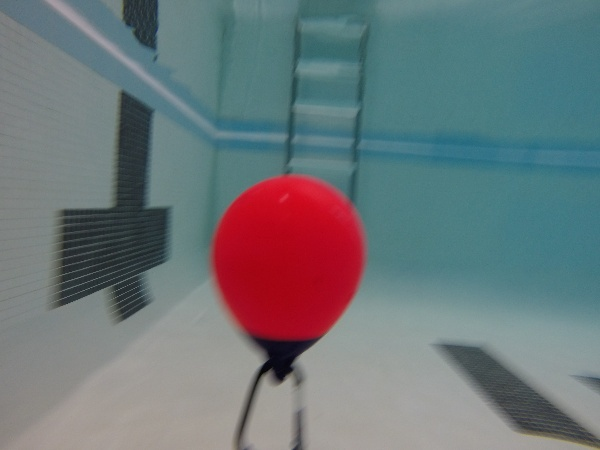buoy_red: (205, 170, 369, 385)
